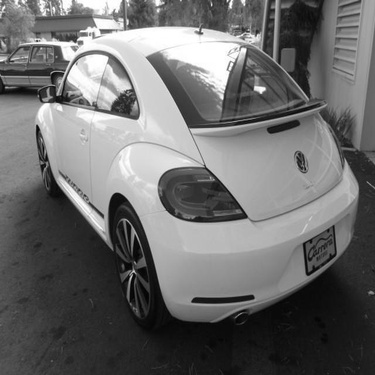car: (27, 22, 366, 337), (1, 53, 80, 90)
